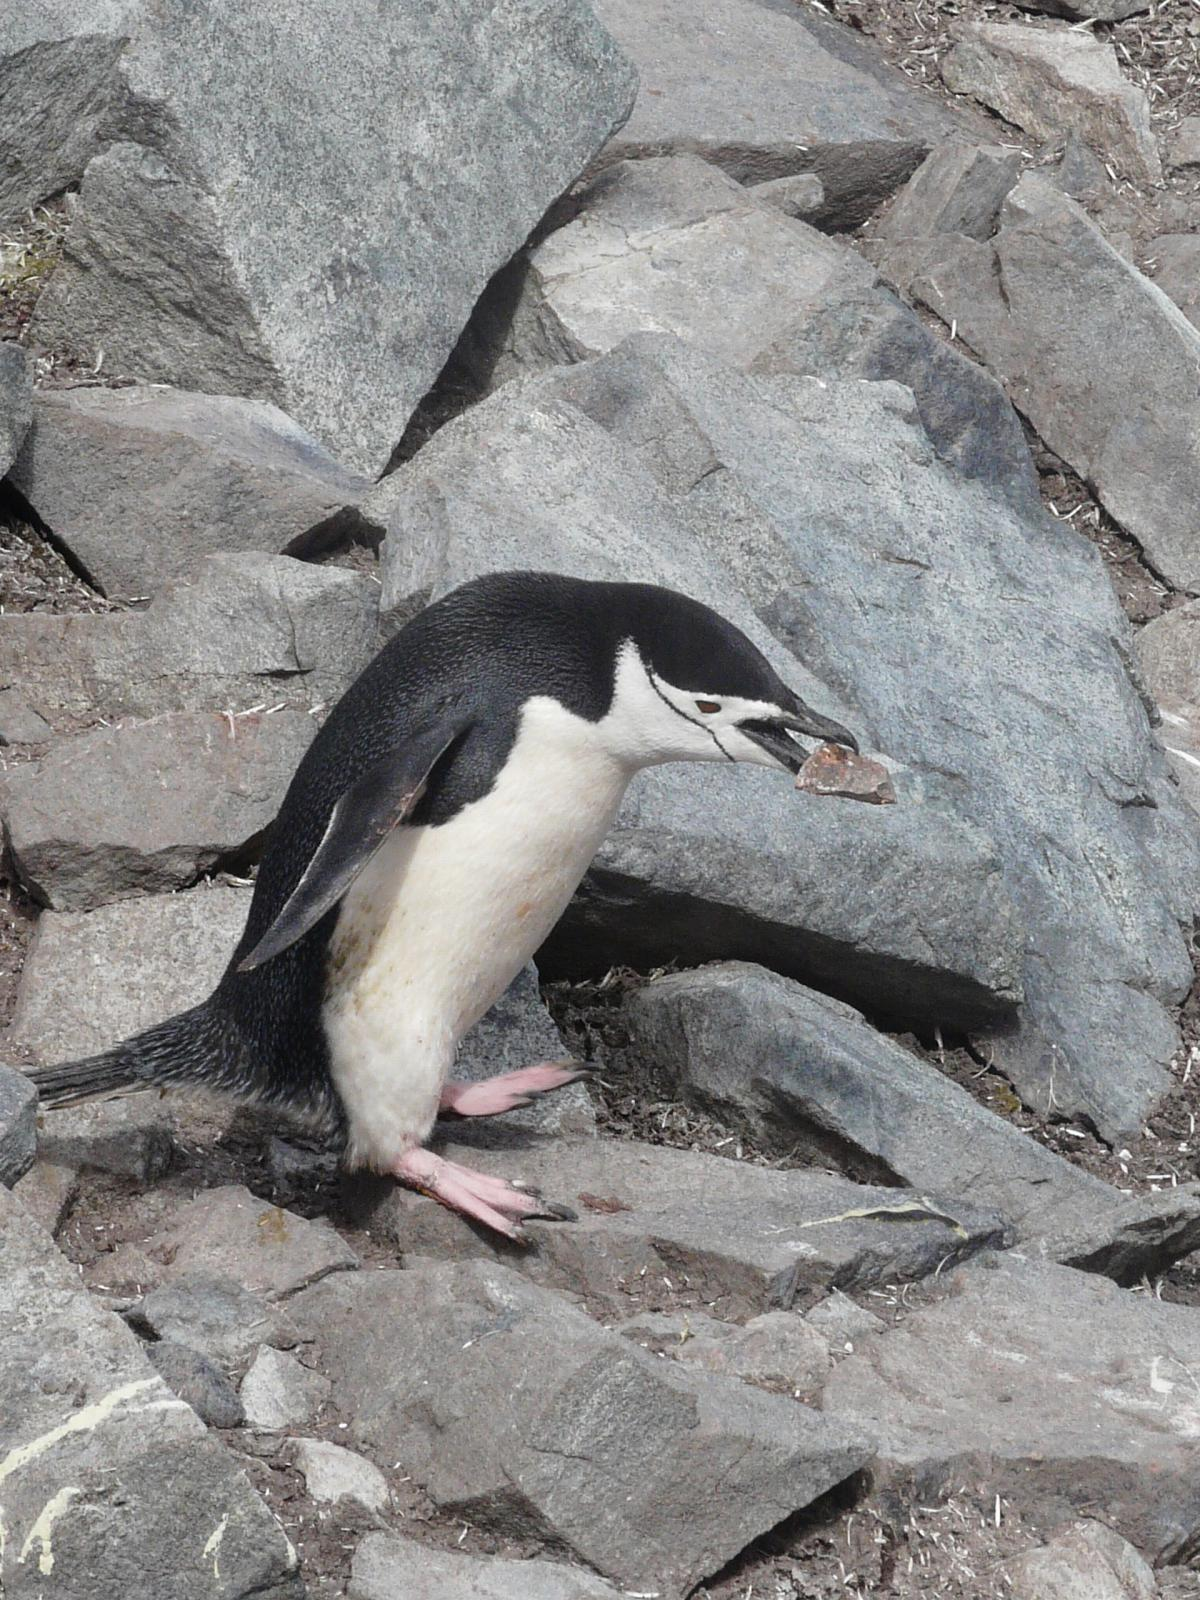chinstrap: (0, 477, 969, 1313)
